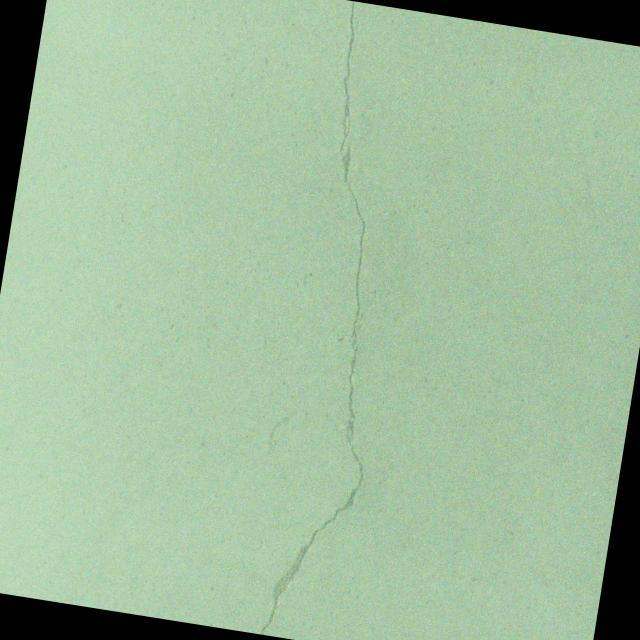crack: (251, 1, 446, 640)
